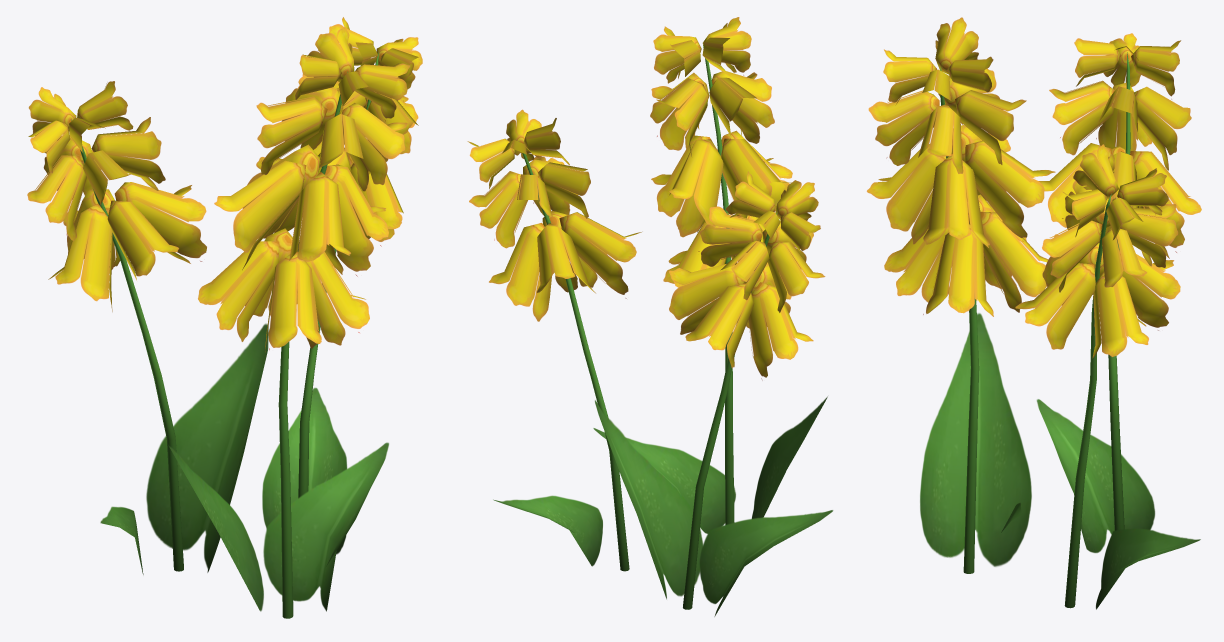
Rendered from flowers.glb.
3 renders of one model, left to right at view 1: azimuth 30°, elevation 25°; view 2: azimuth 150°, elevation 25°; view 3: azimuth 270°, elevation 25°, orthographic. The views are drawn at different scales.
Visible parts, largest first — view 1: Flower_4_Group; view 2: Flower_4_Group; view 3: Flower_4_Group.
Part boxes in pixels (box(x1,y1,x2,y2)): Flower_4_Group: box(27, 17, 422, 618); Flower_4_Group: box(467, 17, 833, 616); Flower_4_Group: box(866, 17, 1201, 609).
Size of the model in its own units: 1.78 by 2.49 by 1.37.
2 materials, 2 textured.
